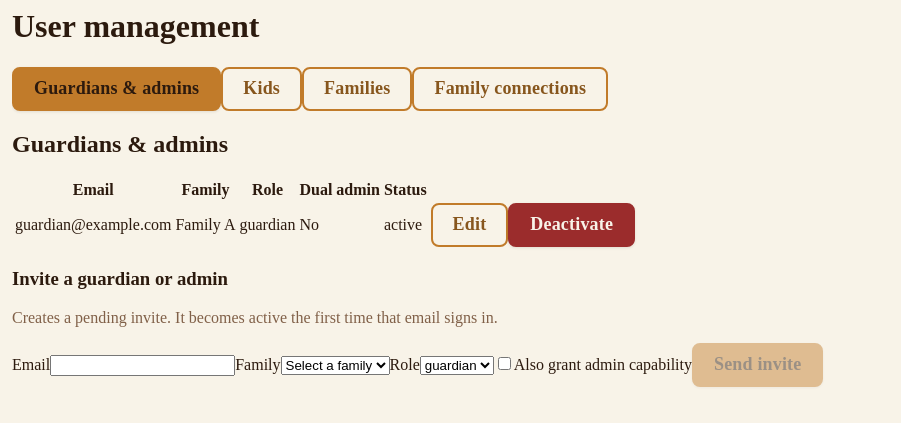
Test: UserManagementPage › shows a scoped error when creating a connection fails, keeping the page usable
The image size is (901, 423).
Expected: the text "guardian@example.com" is shown, top-left (14, 202), bottom-right (172, 248)
Click the button "Family connections" at (510, 89), box top-left (412, 67), bottom-right (608, 111)
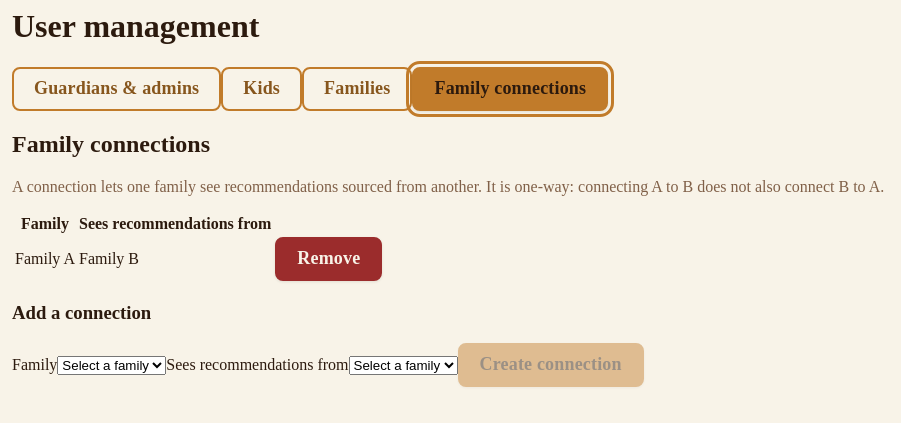
Select "Family A" in the dropdown labelled "Family" at (112, 366), box top-left (57, 356), bottom-right (166, 375)
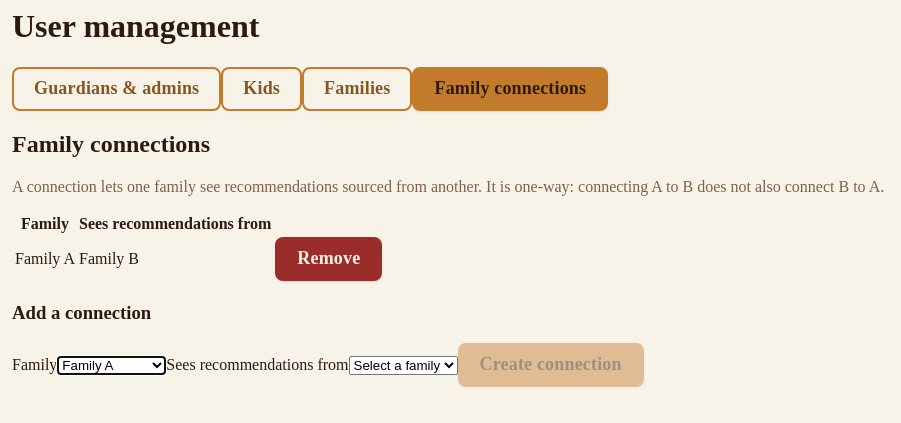
Select "Family B" in the dropdown labelled "Sees recommendations from" at (403, 366), box top-left (348, 356), bottom-right (458, 375)
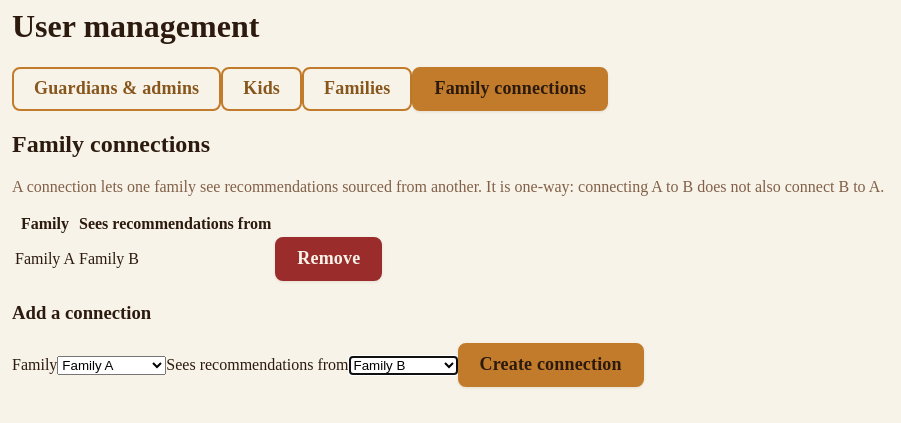
Click the button "Create connection" at (551, 365), box top-left (458, 343), bottom-right (644, 387)
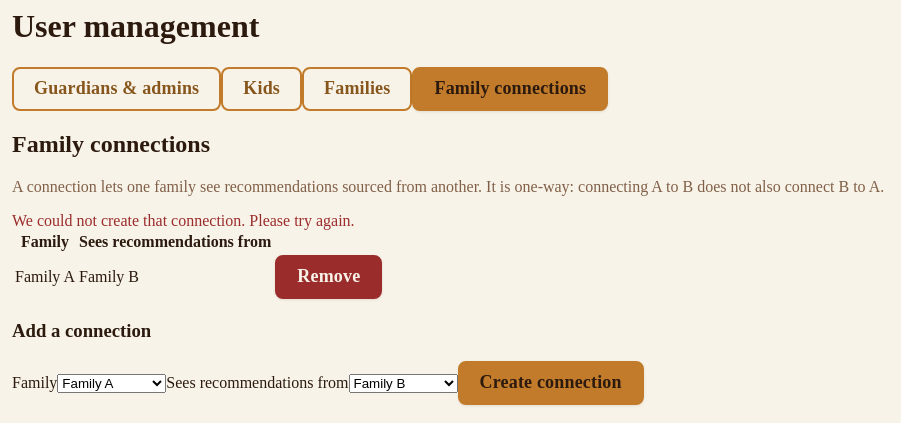
Expected: the text "Family A" is shown, top-left (14, 254), bottom-right (76, 300)
Result: the message shows "could not create" at top-left (12, 212), bottom-right (355, 229)
